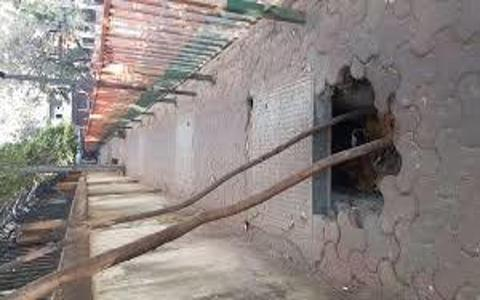open manhole: (310, 63, 404, 230)
